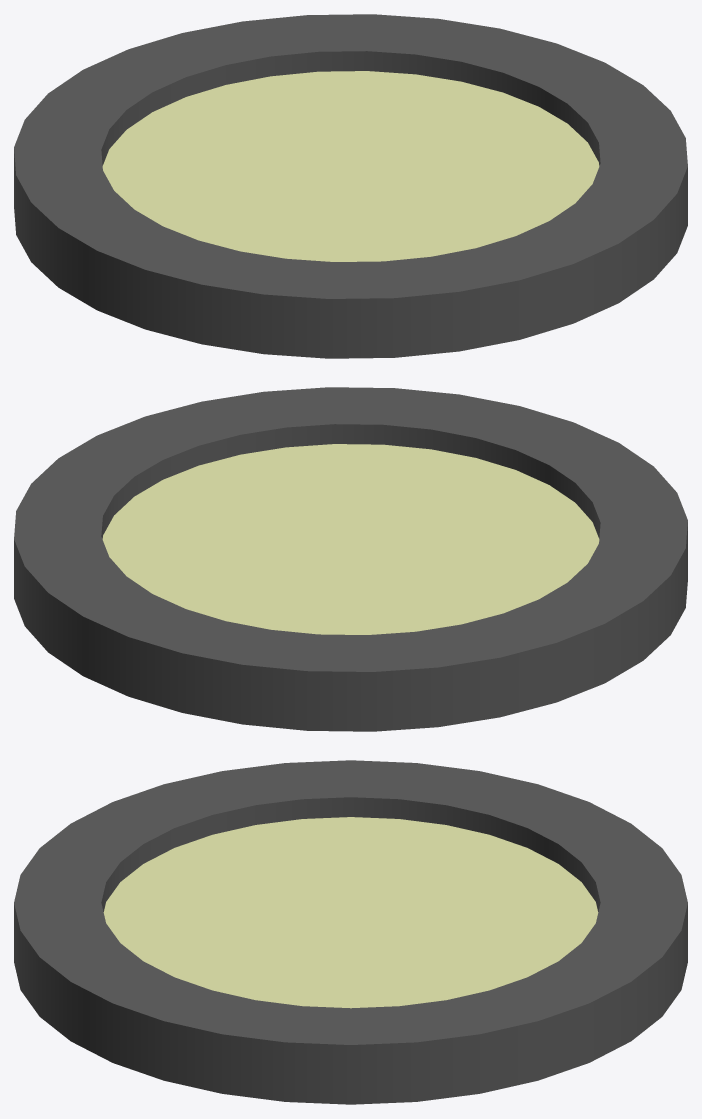
The model's file is floorlamp.fbx.
The picture shows the model from 3 angles, top to bottom: view 1: azimuth 30°, elevation 25°; view 2: azimuth 150°, elevation 25°; view 3: azimuth 270°, elevation 25°; orthographic projection.
Parts seen in each view (by area): view 1: Circle; view 2: Circle; view 3: Circle.
Boxes of the visible parts, bbox=[...] form: Circle: bbox=[14, 14, 687, 358]; Circle: bbox=[14, 387, 687, 731]; Circle: bbox=[14, 760, 687, 1104].
Size of the model in its own units: 110 by 10.77 by 110.
